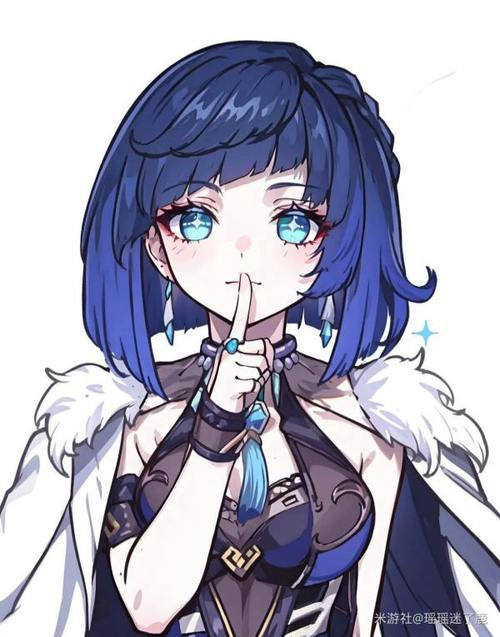夜兰: (45, 38, 437, 637)
